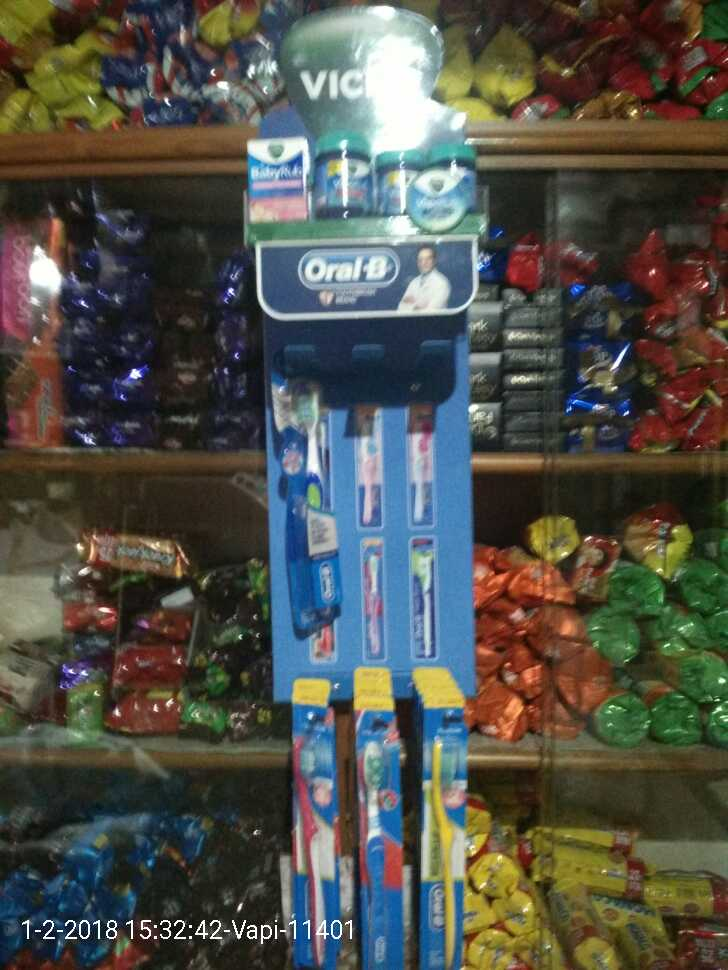pharmacy: (259, 374, 358, 655), (244, 137, 490, 236), (282, 729, 346, 970), (356, 739, 410, 970), (425, 733, 475, 968)
